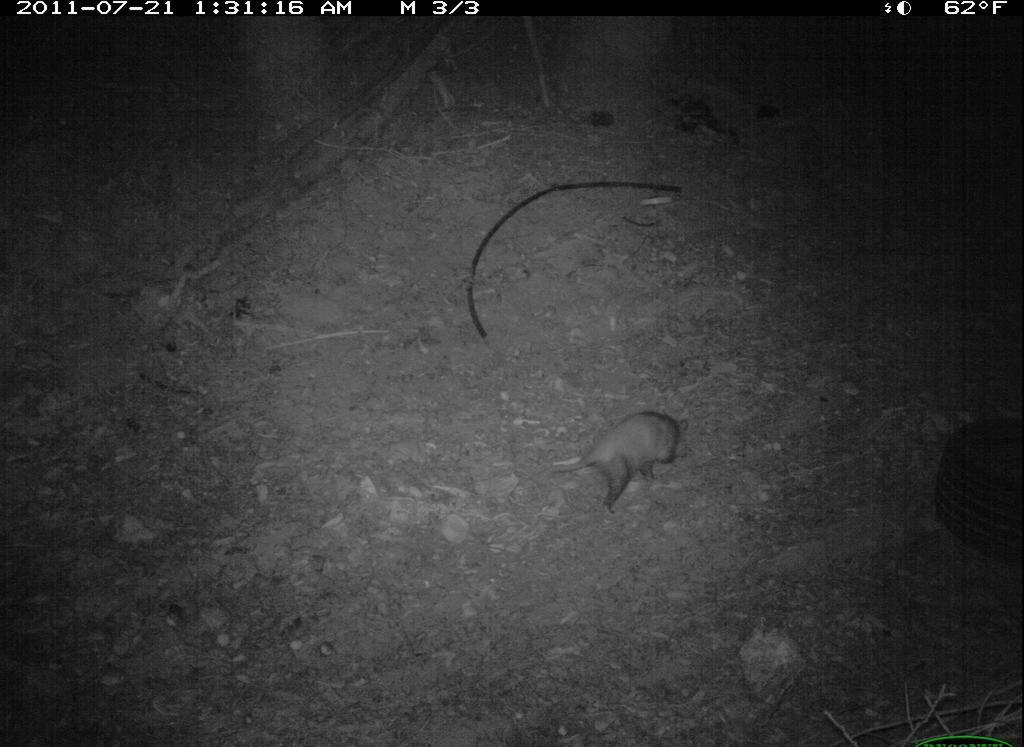opossum: (546, 395, 730, 516)
